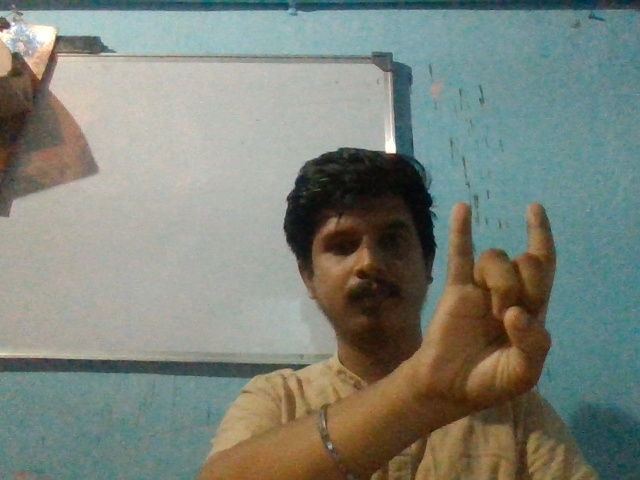Apana: (428, 199, 565, 422)
